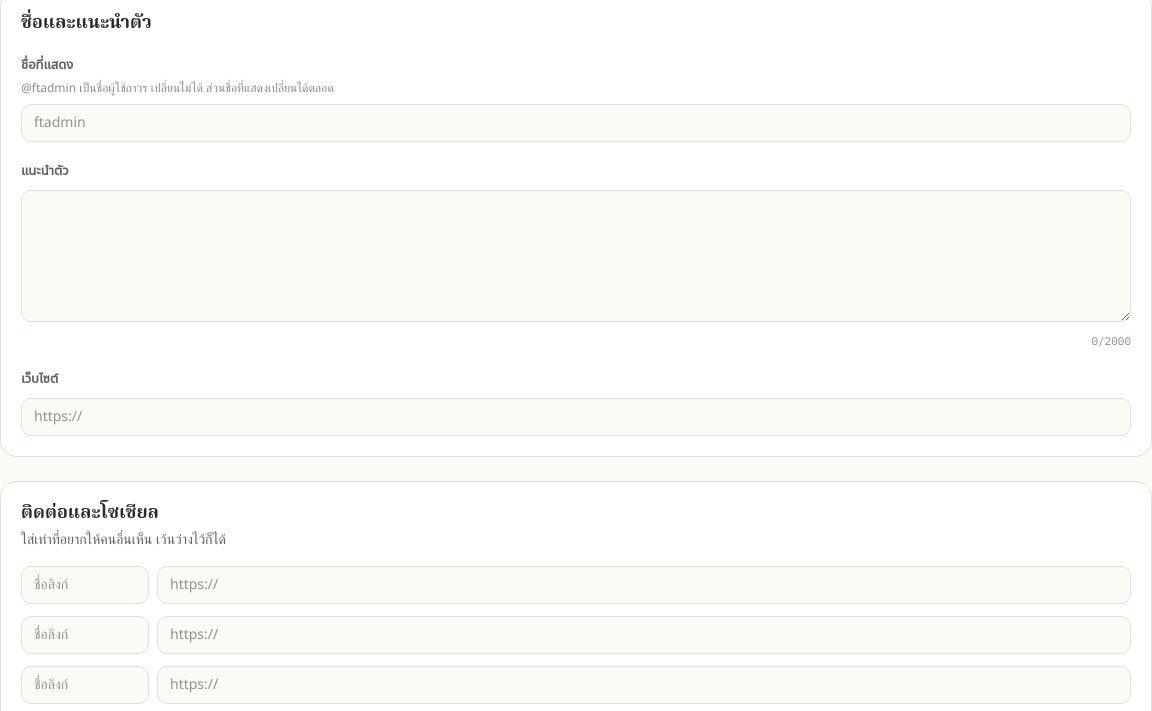
Test case: the profile editor › sends one save with the filled fields, dropping blank link rows
The width and height of the screenshot is (1152, 711).
Step 1. Type "ณัฐวรา" into the field labelled "ชื่อที่แสดง" → (576, 123), box [21,104,1131,142]
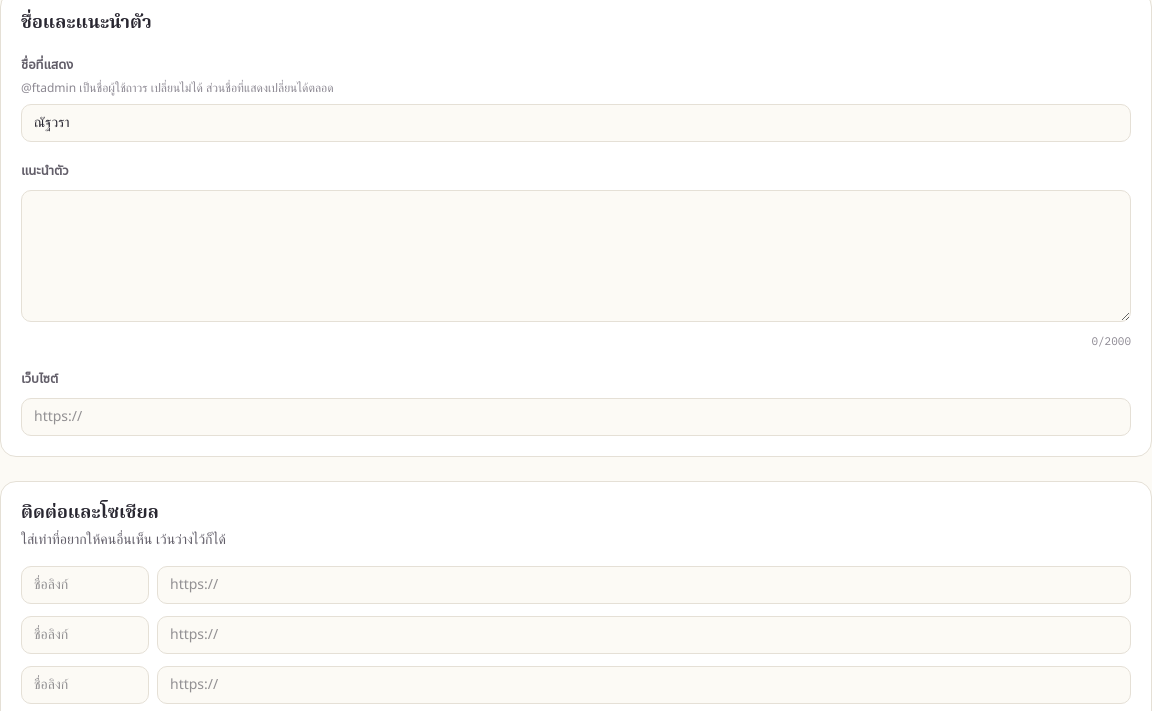
Step 2. Type "เขียนฟิคเป็นงานอดิเรก" into the text box labelled "แนะนำตัว 0/2000" → (576, 256), box [21,190,1131,322]
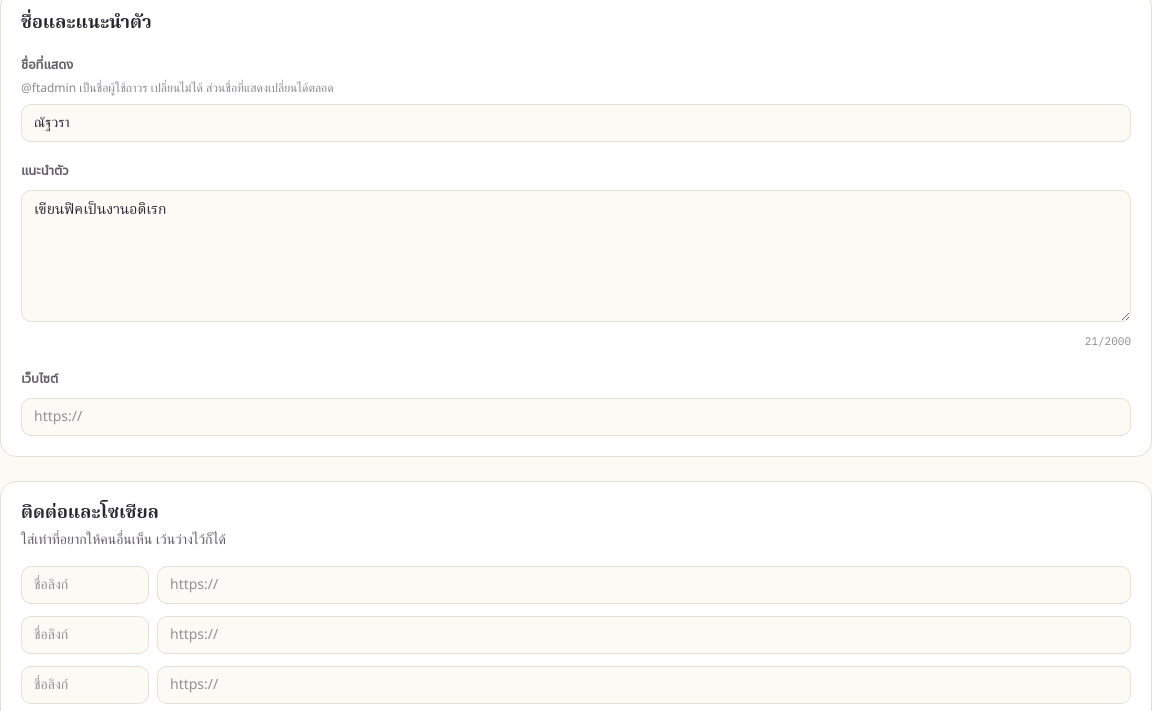
Step 3. Type "https://x.com/someone" into the field named "ที่อยู่ลิงก์ที่ 1" → (644, 585), box [157,566,1131,604]
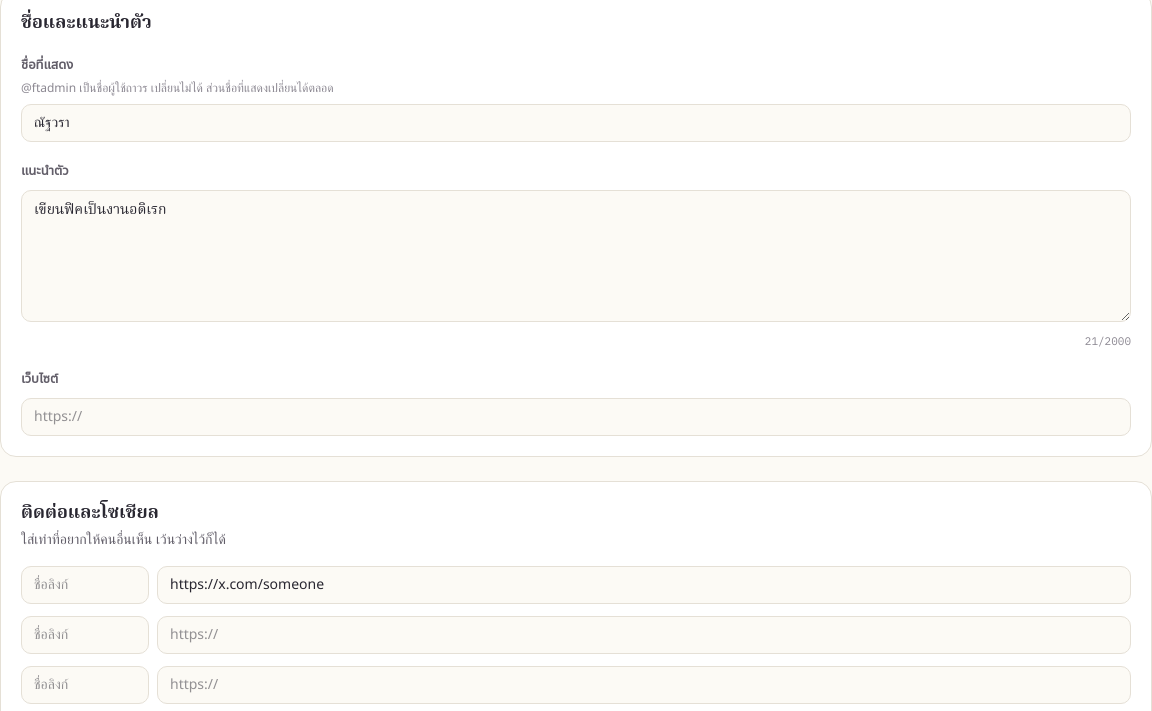
Step 4. Type "X" into the field named "ชื่อลิงก์ที่ 1" → (85, 585), box [21,566,149,604]
(page scrolled)
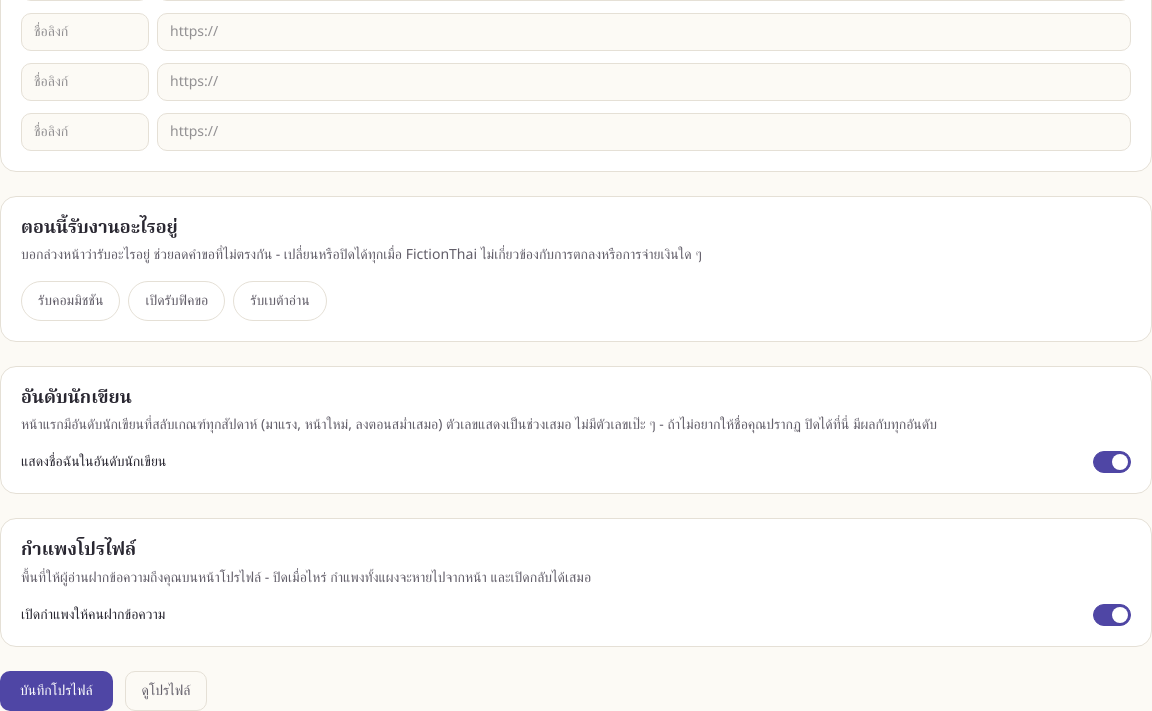
Step 5. Click the button "บันทึกโปรไฟล์" → (56, 691), box [0,671,113,710]
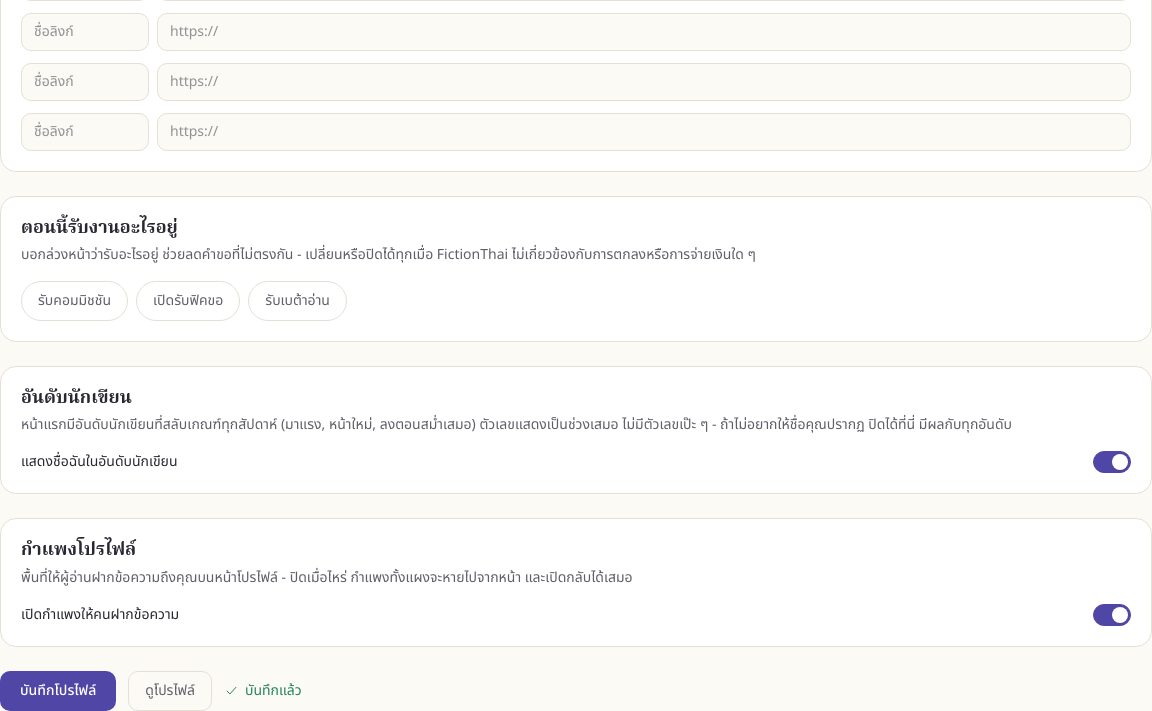
Check: the message reads "บันทึกแล้ว", box [245,680,302,701]
